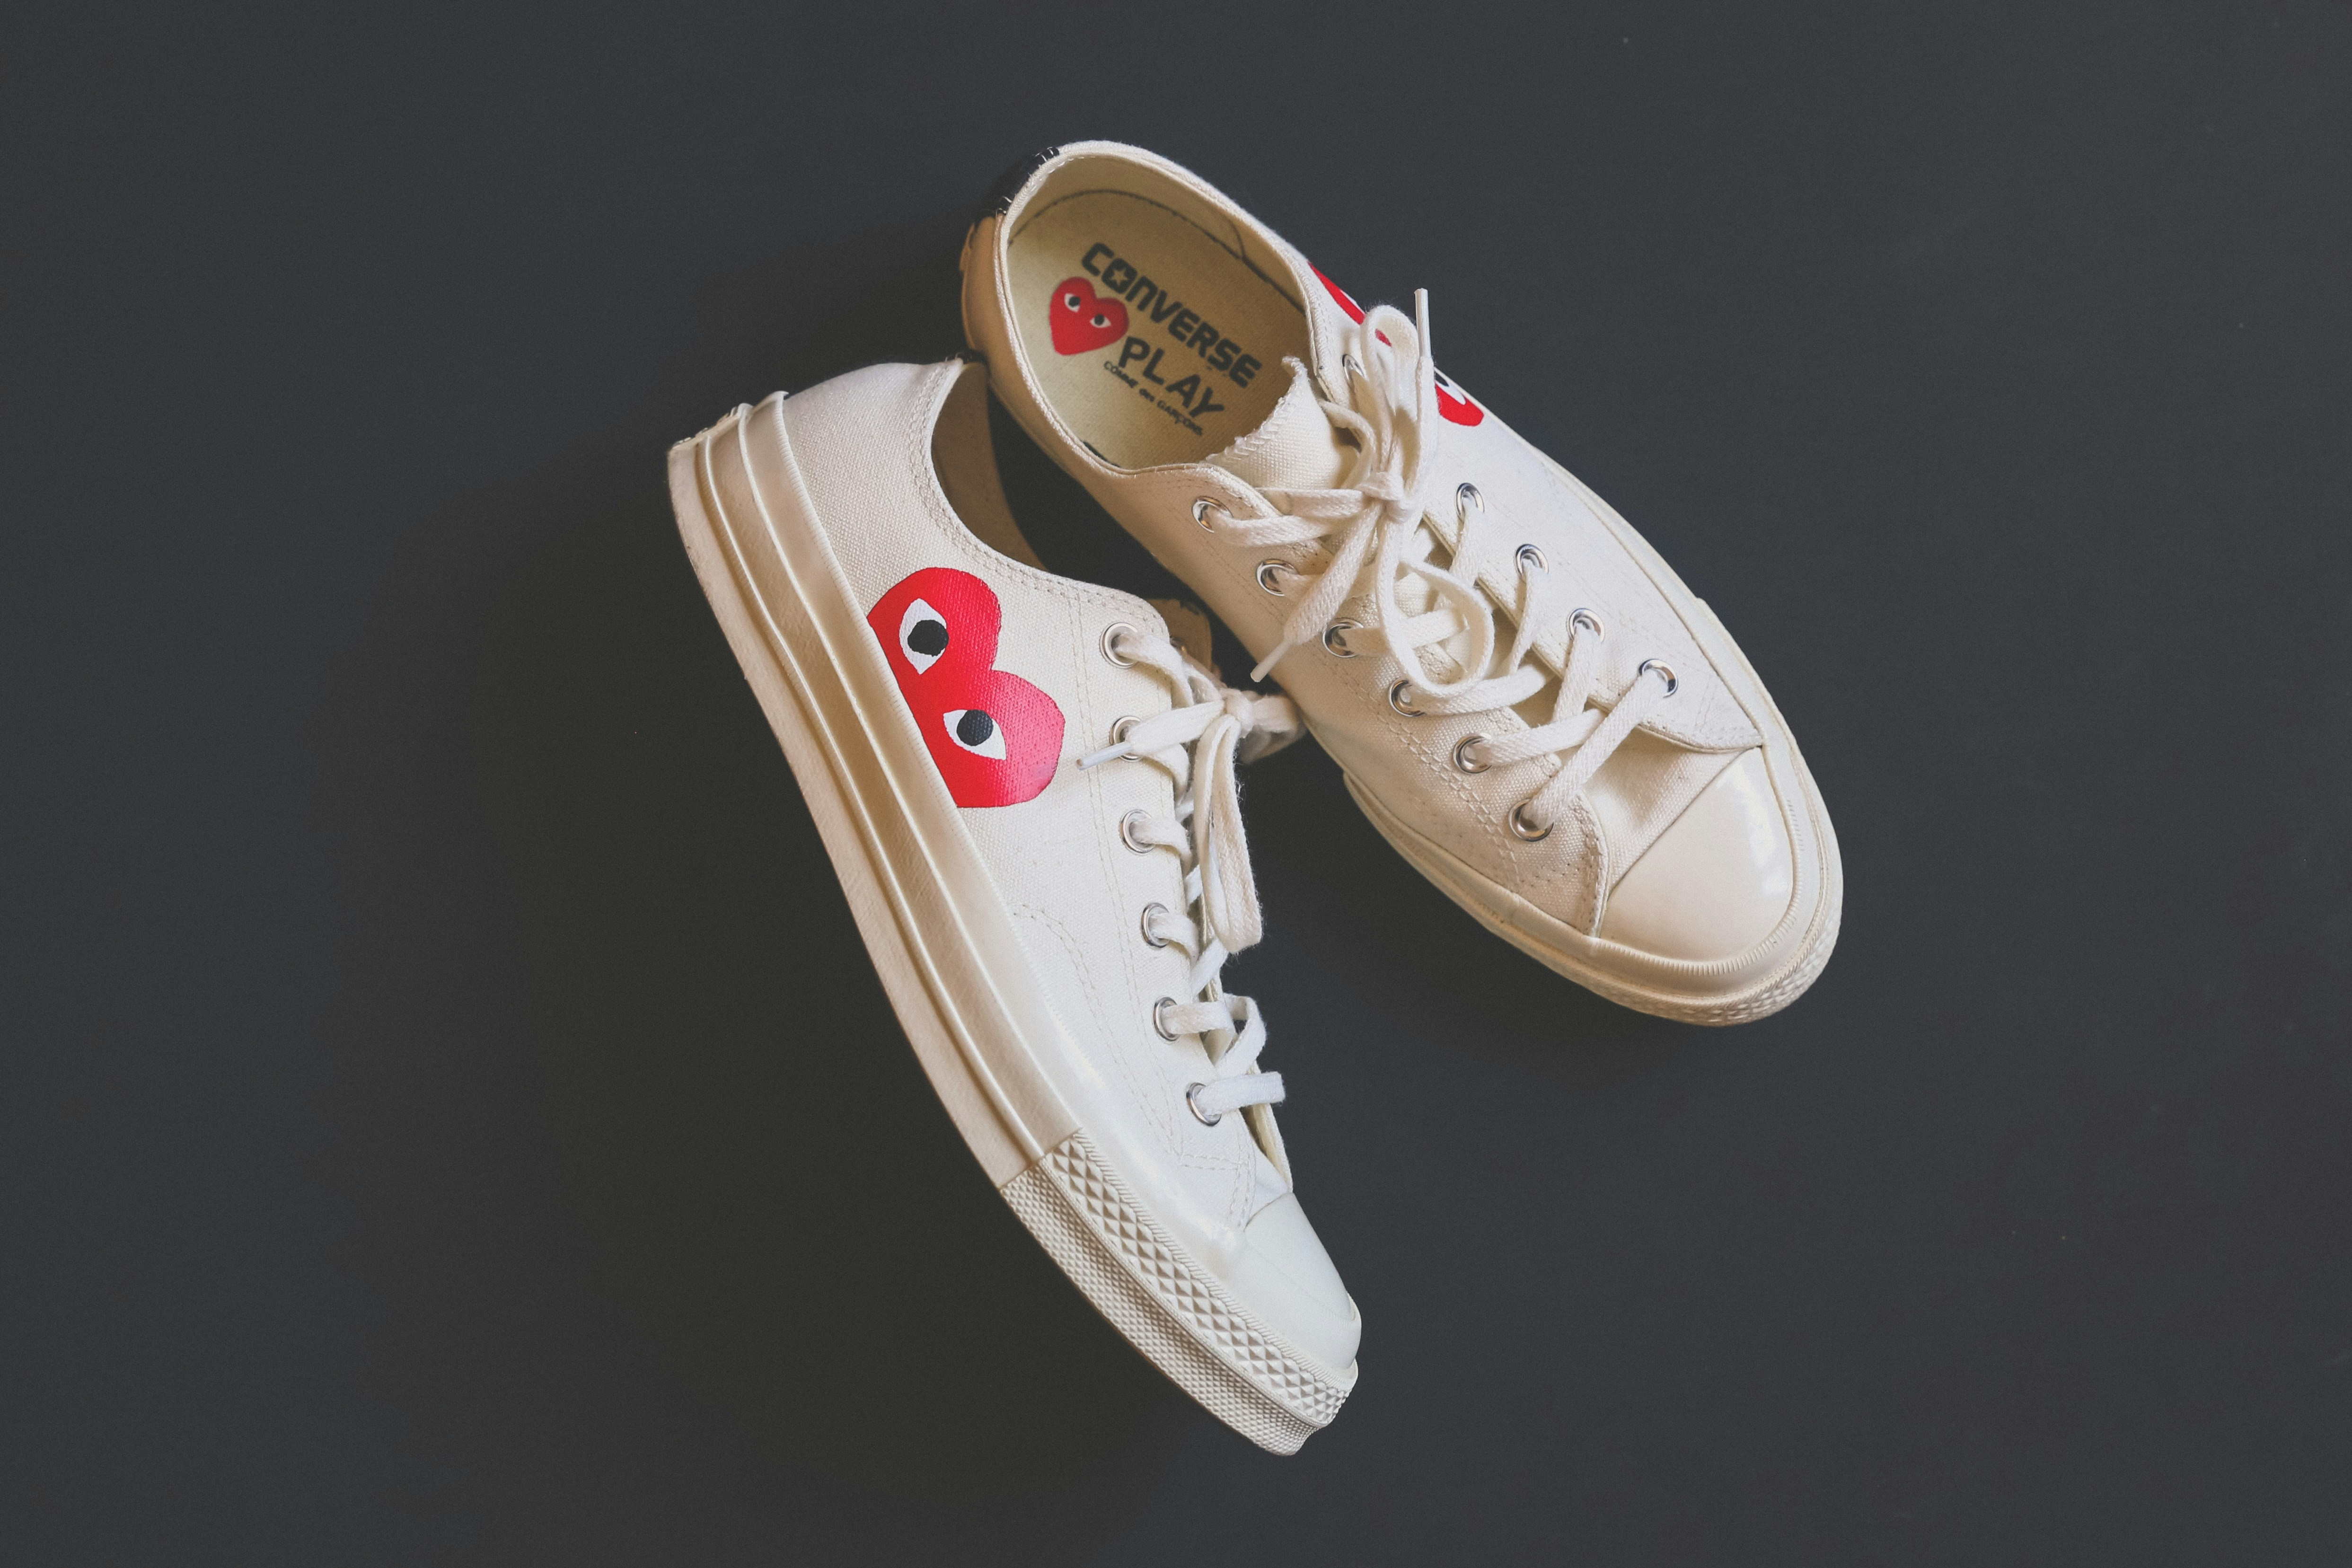Footwear: (656, 126, 1851, 1456)
